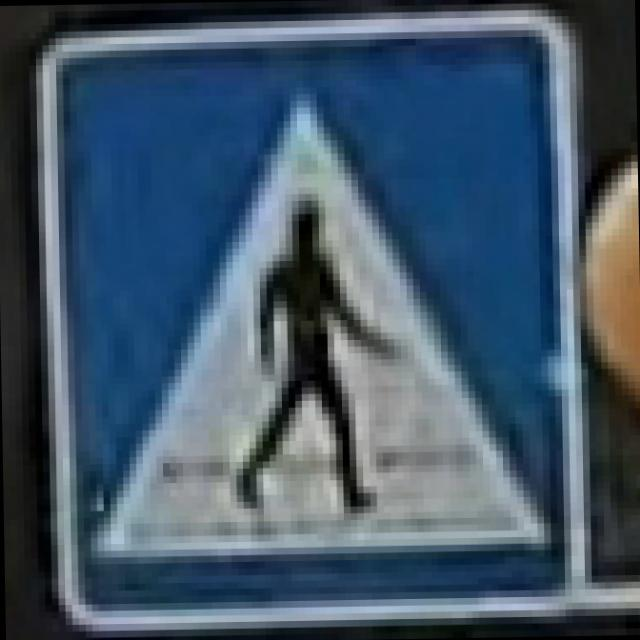zebracrossing_sign: (28, 1, 592, 632)
